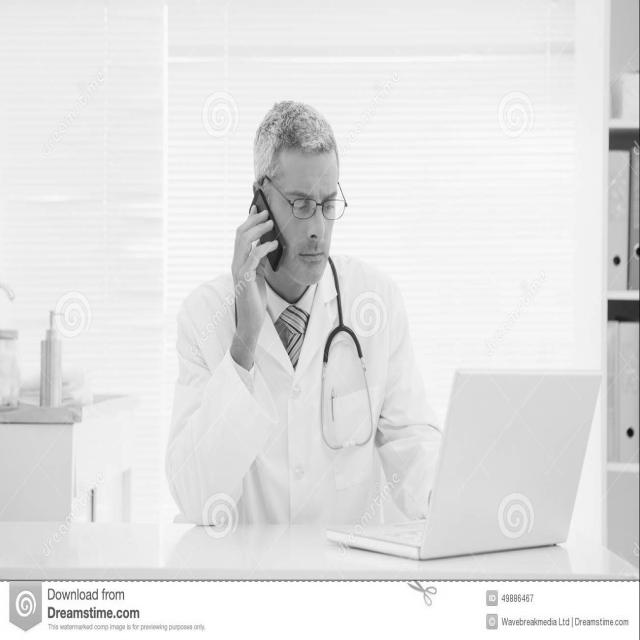phone: (228, 163, 308, 306)
